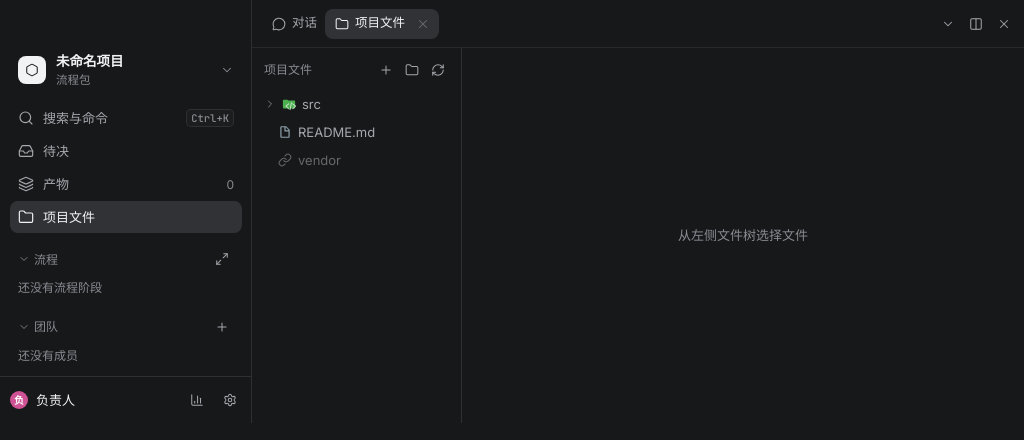
Test case: 「打开方式」子菜单（A16b） › 空列表：一行禁用「未找到可用的应用」
Right-click the list item "src" at (357, 104), box [258,90,456,118]
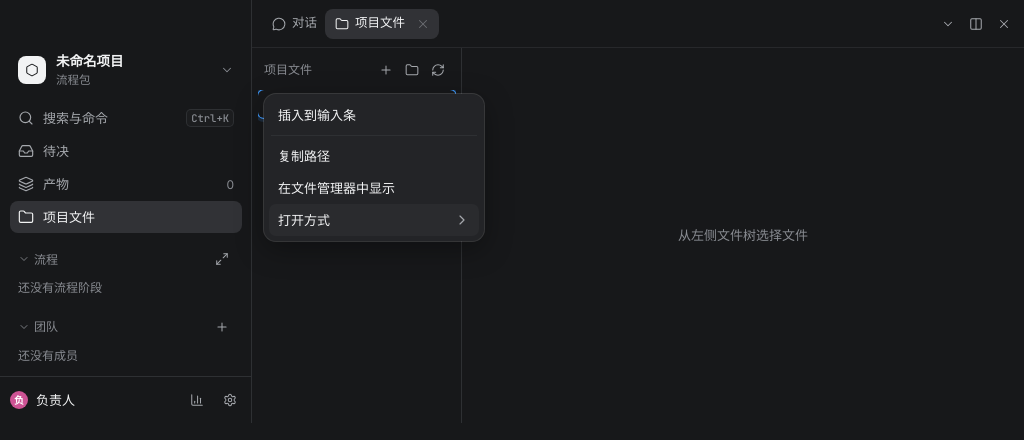
Press ArrowRight in the menu item "打开方式", box [269,204,479,236]
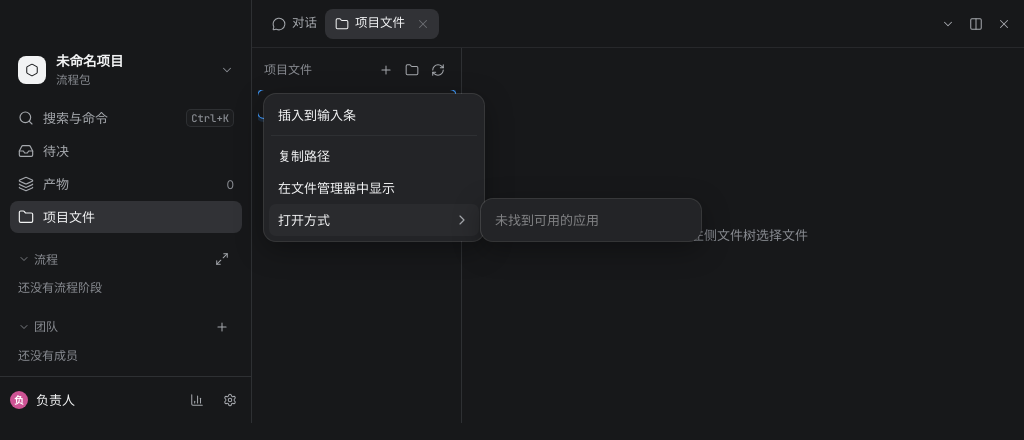
Expected: the menu item "未找到可用的应用" is shown, [495,212,599,228]
